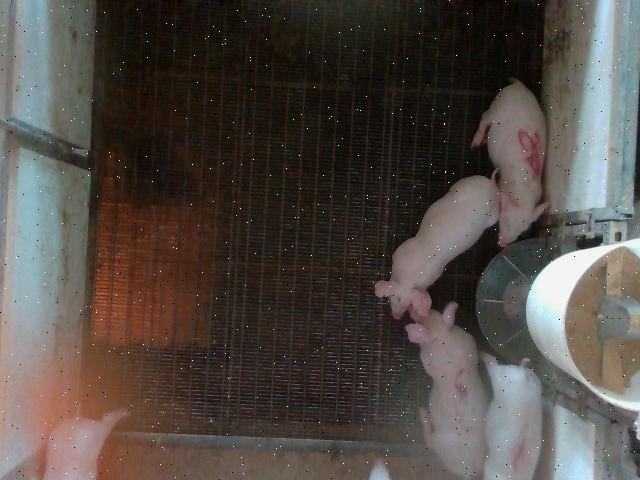pig-1: (481, 353, 542, 479)
pig-3: (406, 302, 488, 478)
pig-5: (471, 79, 549, 247)
